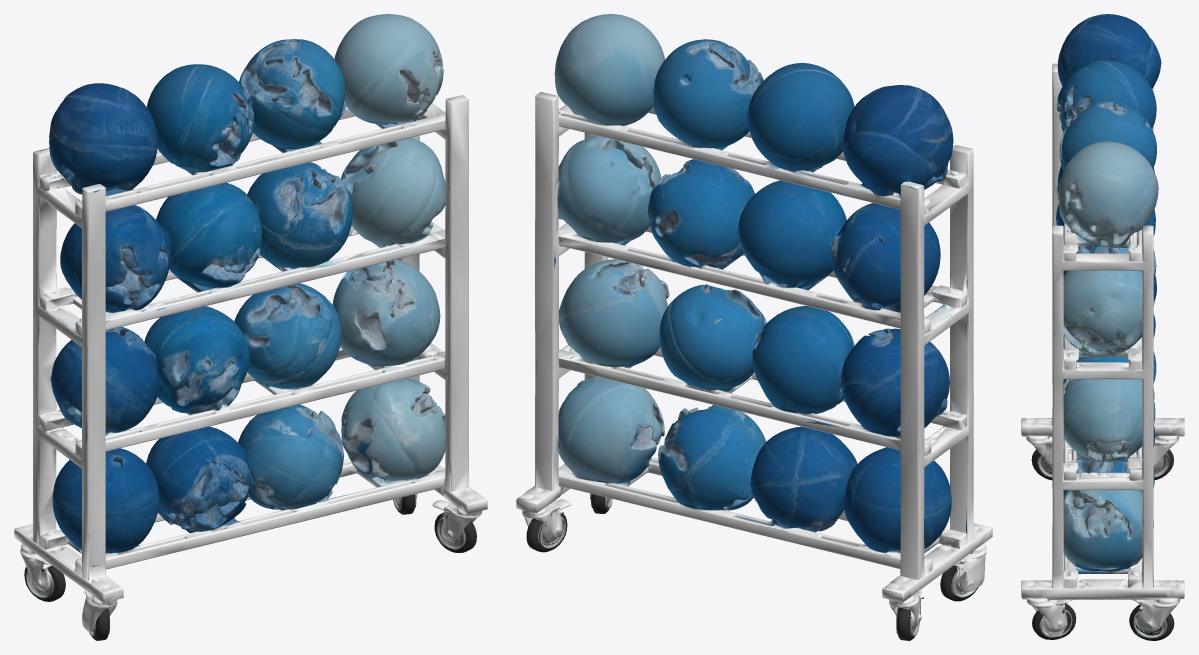
File: blue-planet-cart.glb
3 views of the same model, side by side, from view 1: azimuth 30°, elevation 25°; view 2: azimuth 150°, elevation 25°; view 3: azimuth 270°, elevation 25° (orthographic). The views are drawn at different scales.
Visible parts, largest first — view 1: Mesh_0; view 2: Mesh_0; view 3: Mesh_0.
Boxes of the visible parts, box(x1,y1,x2,y2) form: Mesh_0: box(14, 14, 487, 640); Mesh_0: box(516, 14, 992, 640); Mesh_0: box(1021, 14, 1184, 640).
Size of the model in its own units: 1 by 1.27 by 0.3971.
Materials: 1 (1 with a texture image).
